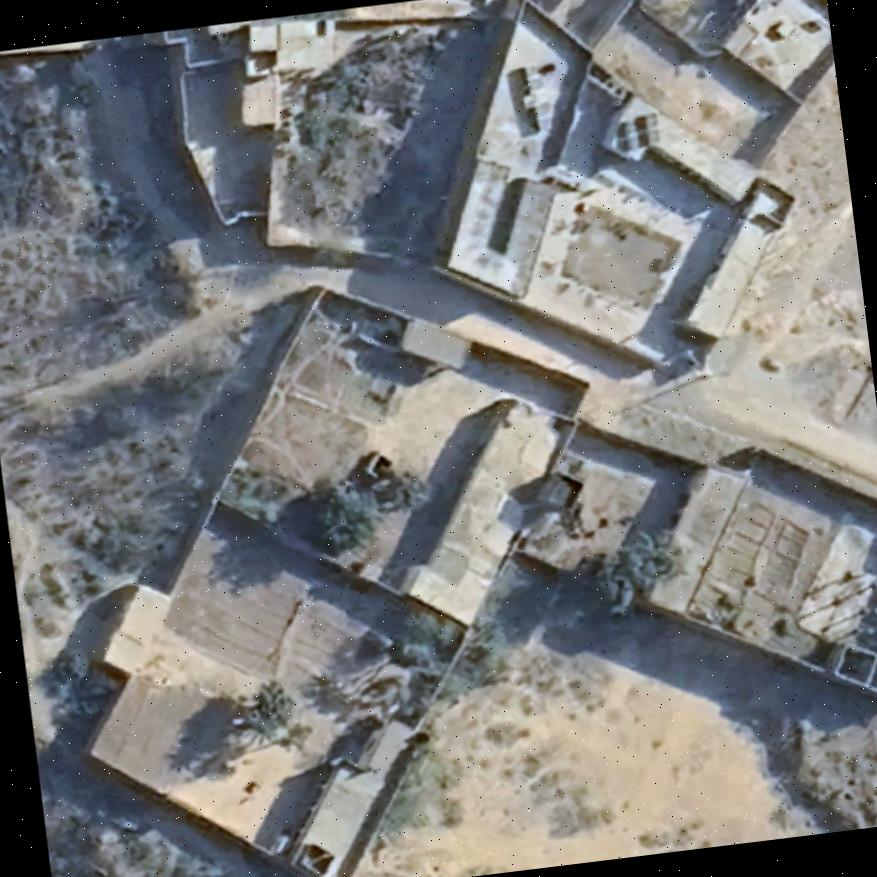Solarpanel: (531, 98, 554, 140), (638, 109, 662, 148), (618, 117, 642, 154), (520, 60, 542, 96)
